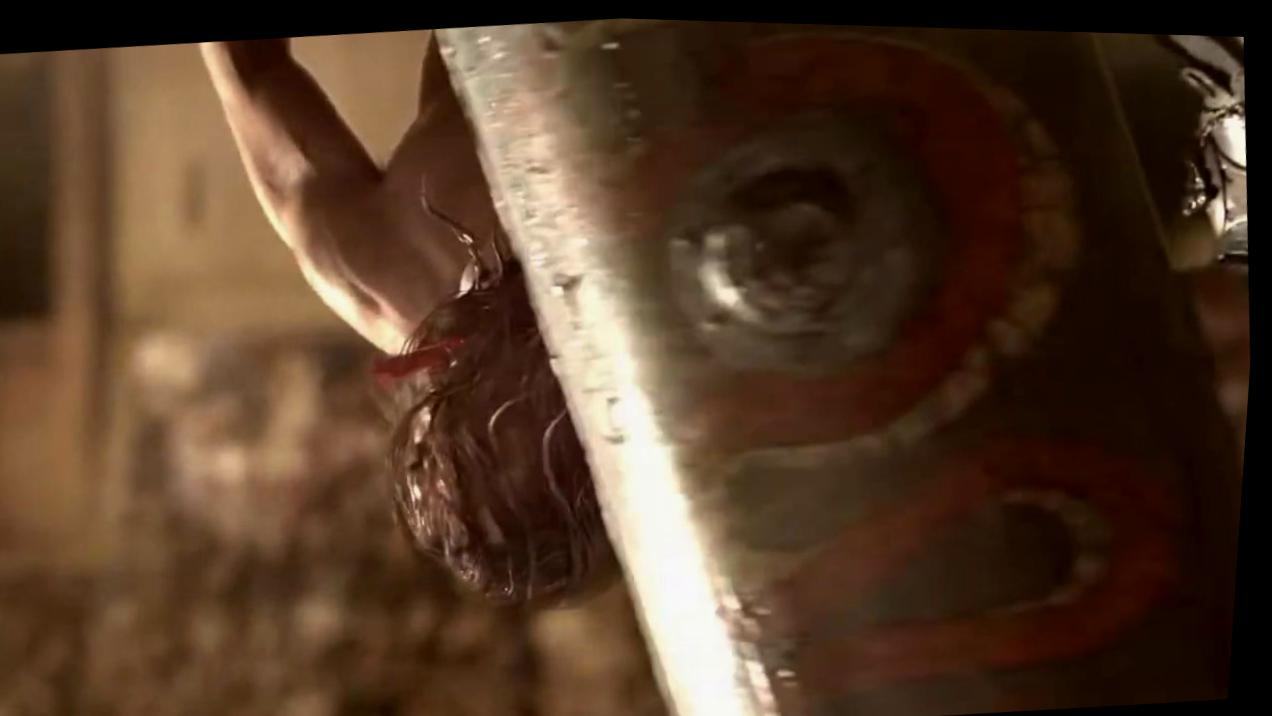Fire: (374, 334, 470, 387)
